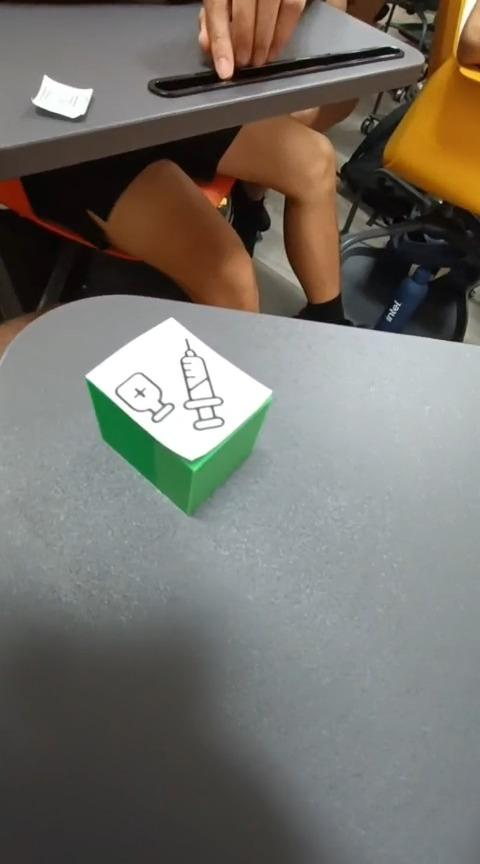antiseptic cream: (83, 315, 274, 517)
